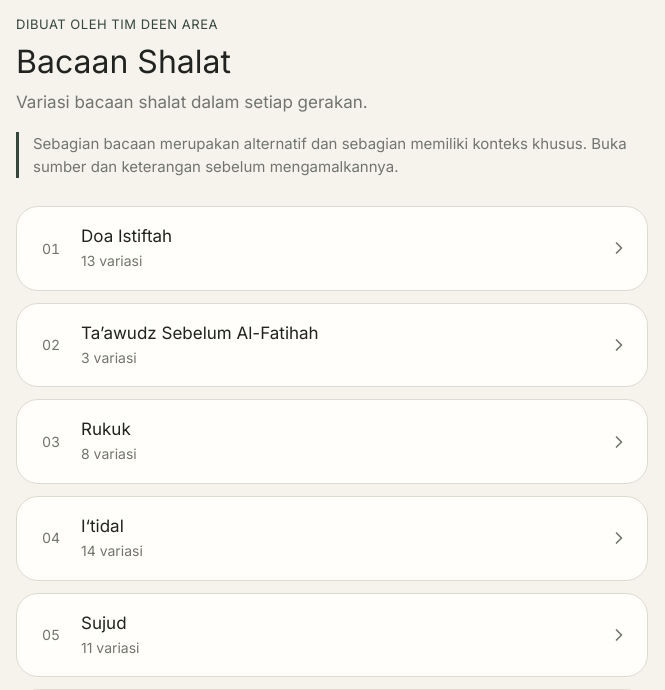
Scenario: Home page › opens Rukuk detail showing variation 1 of 8
Click the button "03 Rukuk 8 variasi" at (106, 429), box [16,399,648,484]
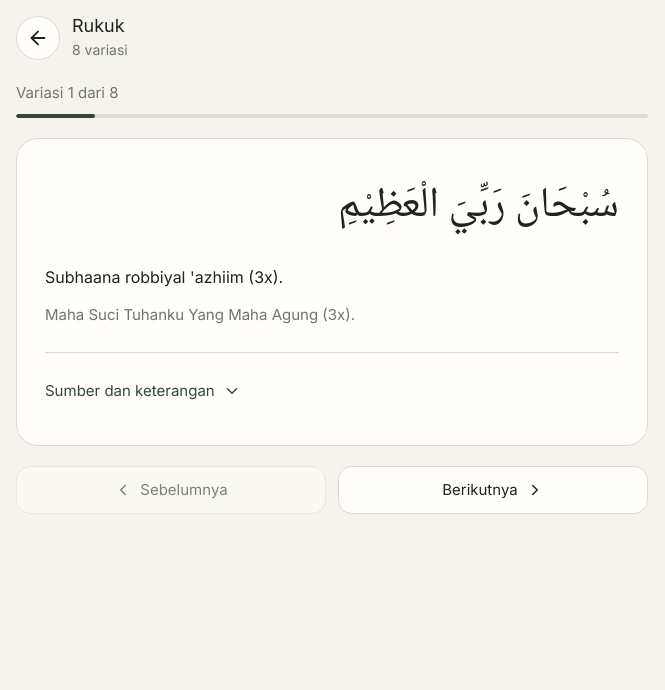
Expected: the text "Variasi 1 dari 8" is shown, [16,83,118,102]
Expected: the button "Sebelumnya" is disabled, [16,466,326,514]
